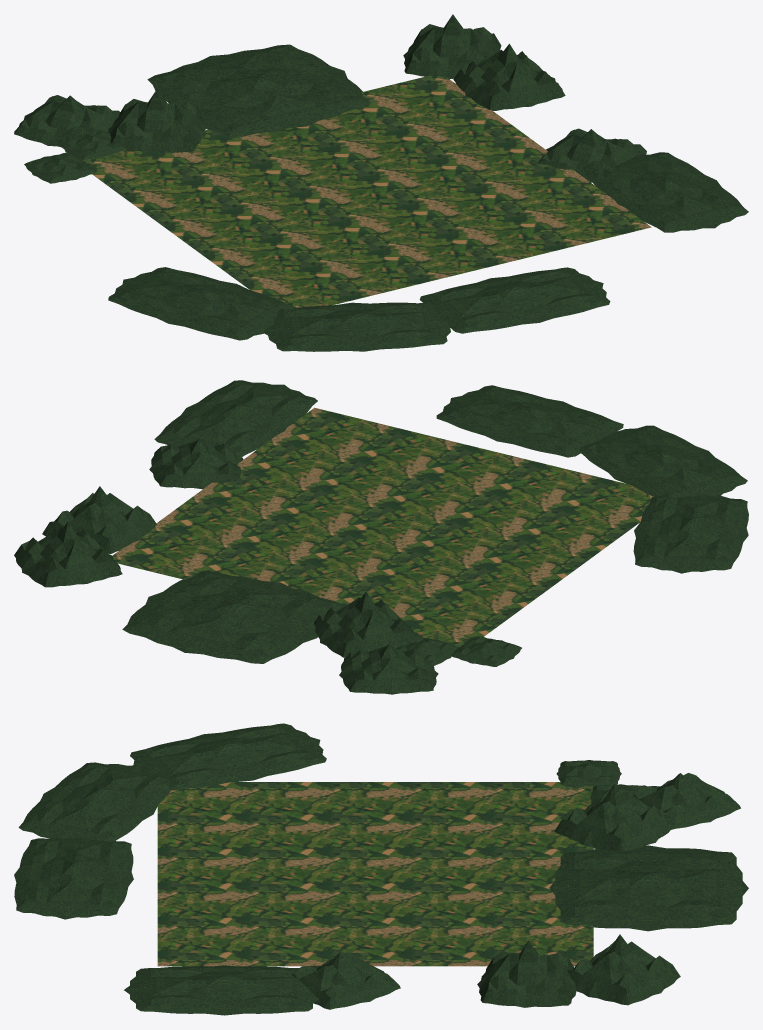
The model's file is land.glb.
The picture shows the model from 3 angles, top to bottom: view 1: azimuth 30°, elevation 25°; view 2: azimuth 150°, elevation 25°; view 3: azimuth 270°, elevation 25°; orthographic projection. The views are drawn at different scales.
Parts seen in each view (by area): view 1: land, mountain (×12); view 2: land, mountain (×12); view 3: land, mountain (×11).
Part boxes in pixels (box(x1,y1,x2,y2)): land: box(82, 76, 651, 307); mountain (×12): box(14, 14, 748, 351); land: box(112, 407, 653, 646); mountain (×12): box(14, 380, 748, 694); land: box(157, 782, 593, 966); mountain (×11): box(14, 723, 748, 1015).
Bounding box in the file's own units: 11512 × 922 × 12243.
Materials: 2 (2 with a texture image).
